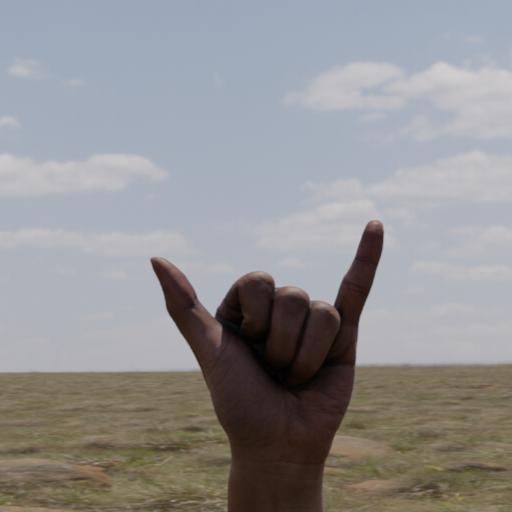Y: (106, 174, 421, 512)
